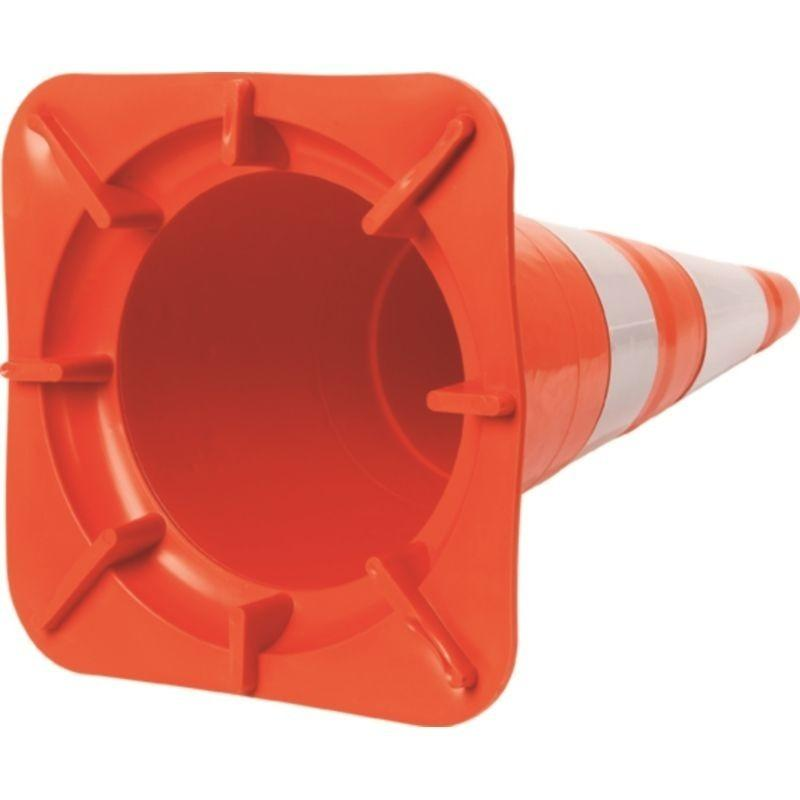traffic_cone: (1, 70, 798, 728)
